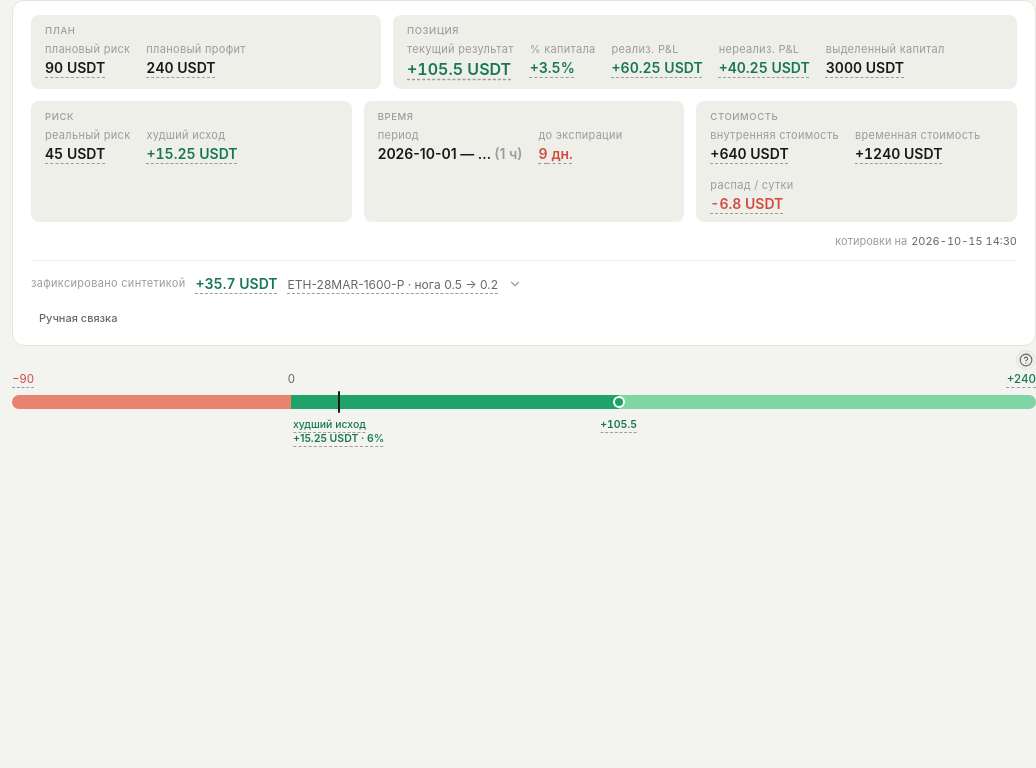
Test: ConstructionMetricStrip: подсказки числовых метрик сводки › подсказка строки синтетики даёт разделы на лок и размер ноги
The image size is (1036, 768).
// наведение на величину лока.
Step 1. Hover over the text "+35.7 USDT" → (237, 284), box [196,273,278,294]
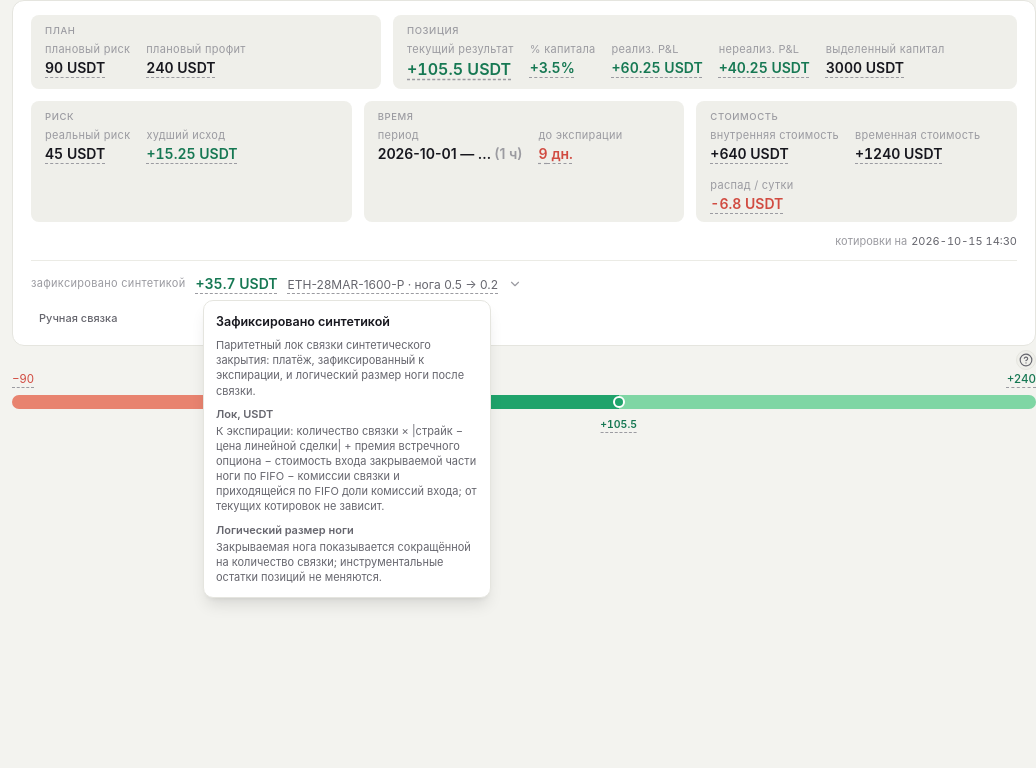
Expected: the tooltip is shown, [203,300,491,598]
Expected: the tooltip shows "Зафиксировано синтетикой", [216,314,390,329]
Expected: the tooltip shows "Лок, USDT", [216,407,273,421]
